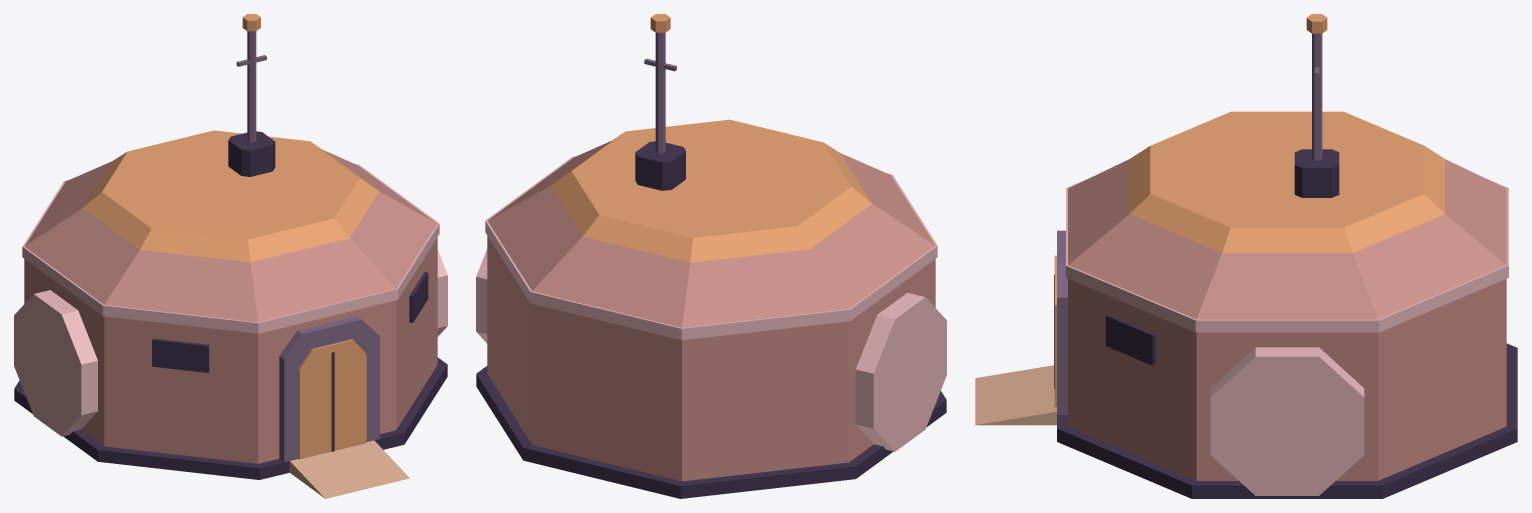
Rendered from base_hub.obj.
3 views of the same model, side by side, from view 1: azimuth 30°, elevation 25°; view 2: azimuth 150°, elevation 25°; view 3: azimuth 270°, elevation 25° (orthographic). The views are drawn at different scales.
Visible parts, largest first — view 1: base_hub_dusty_rose, base_hub_warm_orange, base_hub_pale_pink, base_hub_deep_purple, base_hub_mauve, base_hub_clay_sand; view 2: base_hub_dusty_rose, base_hub_warm_orange, base_hub_pale_pink, base_hub_deep_purple, base_hub_mauve; view 3: base_hub_dusty_rose, base_hub_warm_orange, base_hub_pale_pink, base_hub_deep_purple, base_hub_clay_sand, base_hub_mauve.
Part boxes in pixels (x1,y1,x2,y2): base_hub_dusty_rose: (24,150,437,463); base_hub_warm_orange: (83,14,379,459); base_hub_pale_pink: (14,164,447,436); base_hub_deep_purple: (14,131,447,479); base_hub_mauve: (236,31,379,462); base_hub_clay_sand: (289,440,409,498); base_hub_dusty_rose: (487,140,935,481); base_hub_warm_orange: (550,14,872,262); base_hub_pale_pink: (476,156,946,451); base_hub_deep_purple: (476,141,946,498); base_hub_mauve: (644,32,676,153); base_hub_dusty_rose: (1068,159,1506,480); base_hub_warm_orange: (1054,14,1444,406); base_hub_pale_pink: (1066,178,1508,495); base_hub_deep_purple: (1054,149,1517,498); base_hub_clay_sand: (975,365,1056,425); base_hub_mauve: (1057,33,1322,414).
Size of the model in its own units: 6.5 by 5.99 by 7.31.
